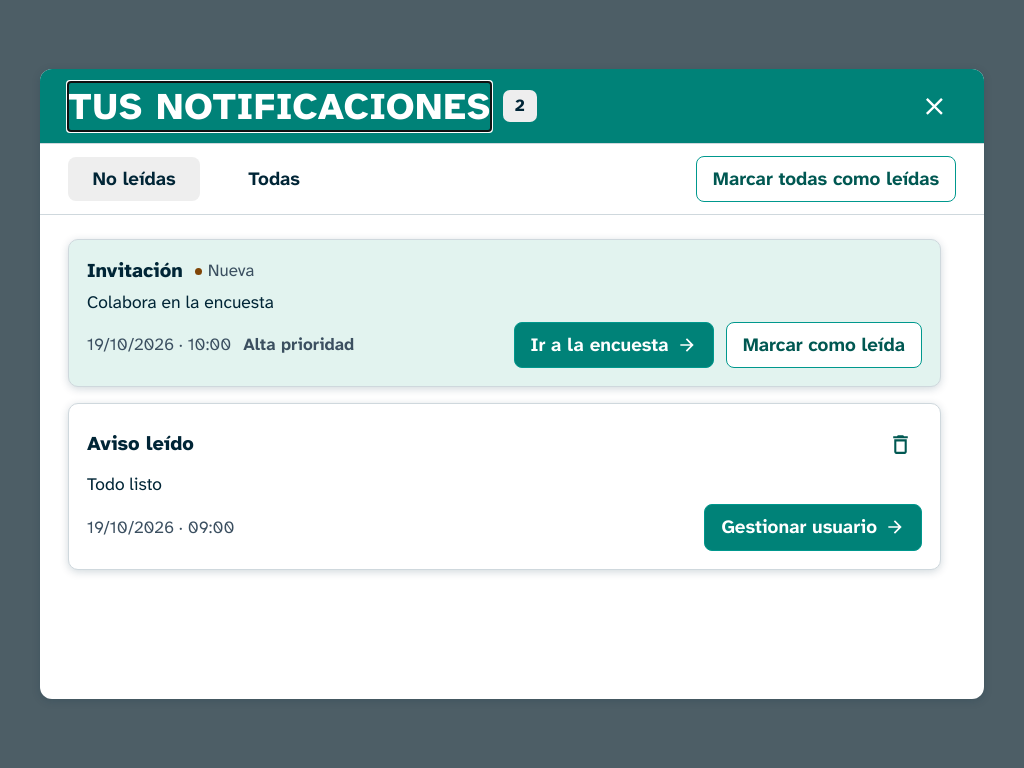
Test case: NotificationsModal › permite consultar todas y eliminar una ya leída
Expected: the heading "Aviso leído" is shown, [87, 431, 194, 457]
Click the button "Todas": coordinates (274, 179) [208, 157, 340, 201]
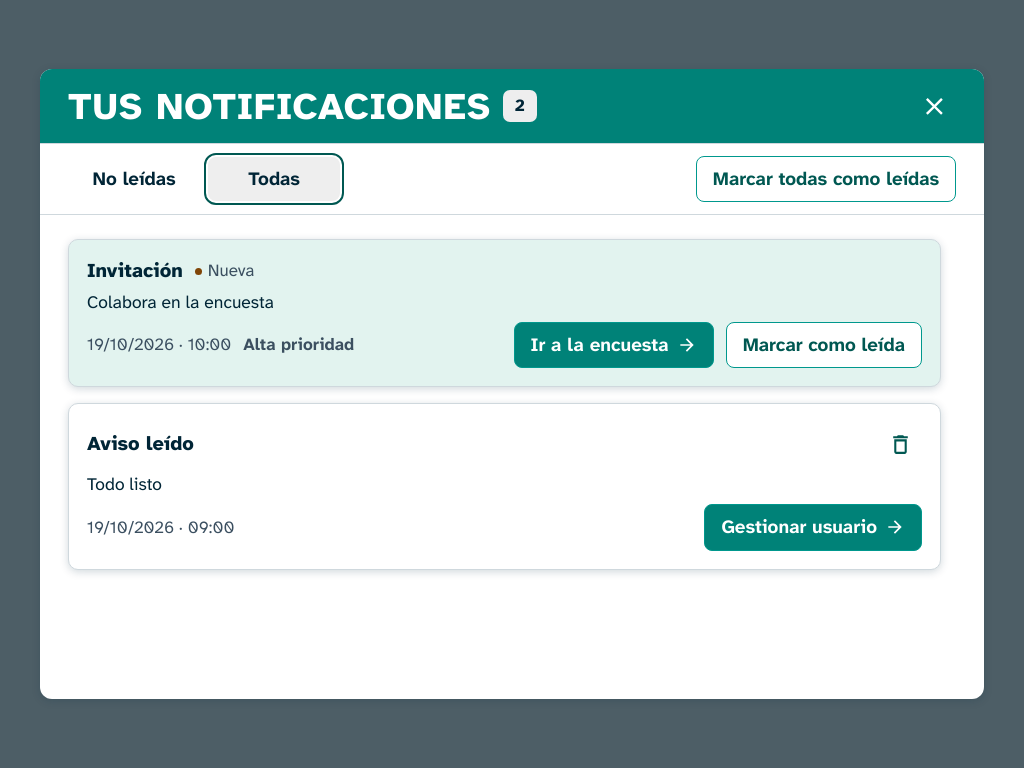
Click the button named "Eliminar definitivamente: Aviso leído": coordinates (900, 444) [878, 422, 922, 466]
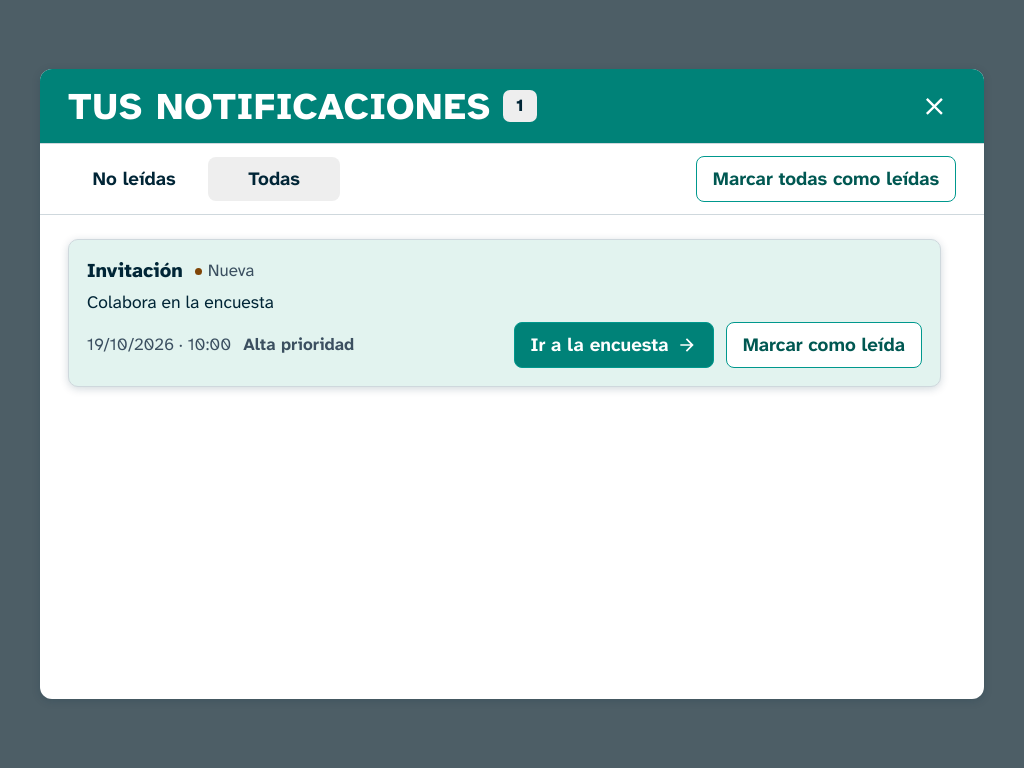
Expected: the heading "Aviso leído" is gone
